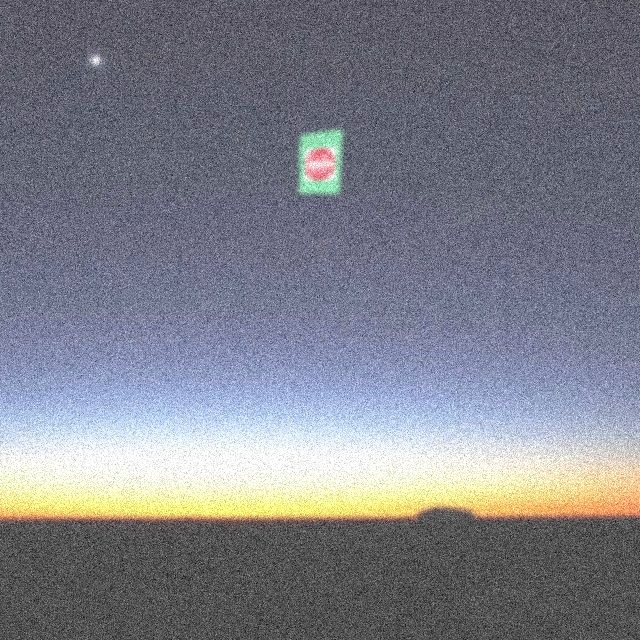DO_NOT_ENTER: (304, 146, 337, 181)
